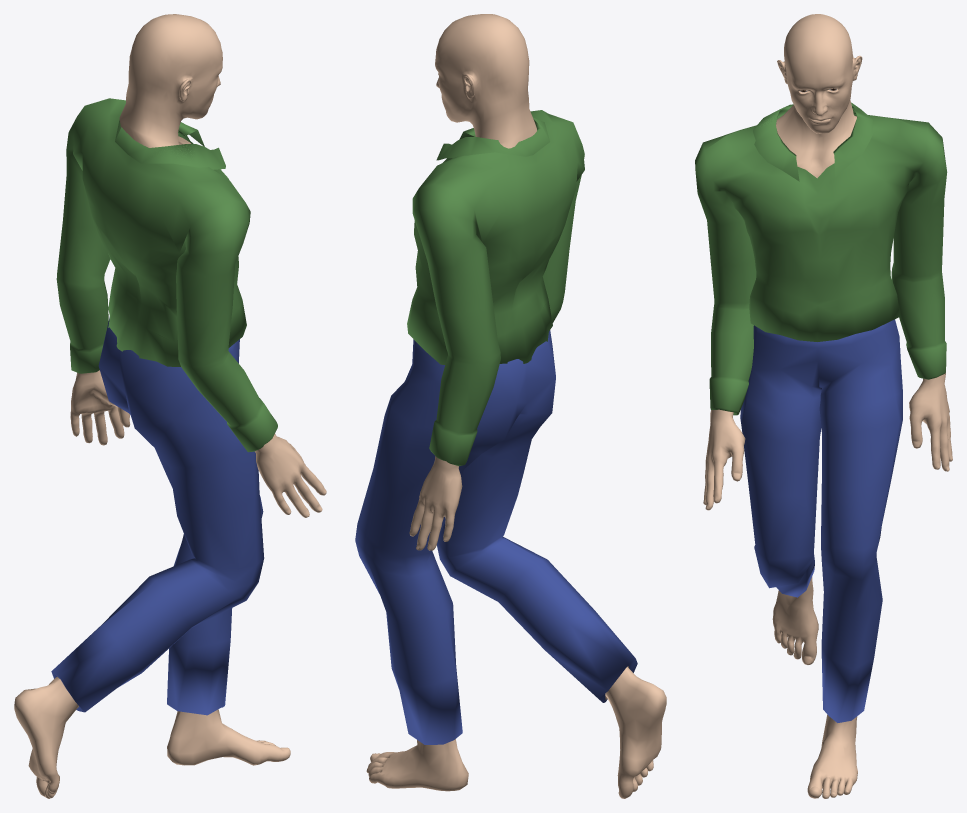
The model's file is arenian_walk.dae.
3 renders of one model, left to right at view 1: azimuth 30°, elevation 25°; view 2: azimuth 150°, elevation 25°; view 3: azimuth 270°, elevation 25°, orthographic. The views are drawn at different scales.
Parts seen in each view (by area): view 1: human; view 2: human; view 3: human.
Part boxes in pixels (x1=…): human: x1=14, y1=14, x2=326, y2=798; human: x1=355, y1=14, x2=666, y2=798; human: x1=695, y1=14, x2=952, y2=798.
Bounding box in the file's own units: 0.6433 × 0.5379 × 1.68.
